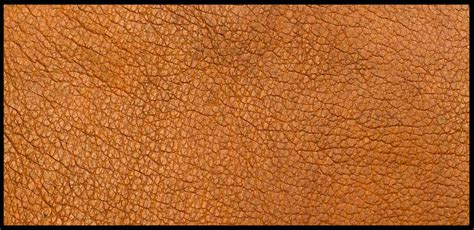cuero: (4, 5, 468, 225)
